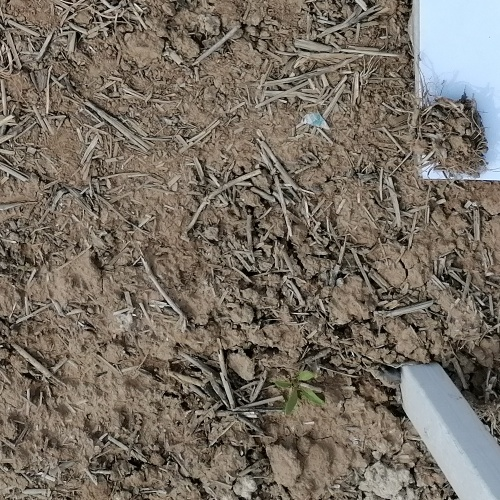beet: (275, 370, 323, 417)
